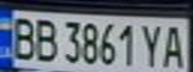1: (115, 20, 139, 68)
3: (57, 17, 84, 64)
6: (96, 19, 121, 66)
8: (78, 19, 100, 65)
A: (160, 21, 190, 69)
B: (6, 14, 39, 61), (30, 16, 60, 63)
Y: (139, 20, 166, 69)
